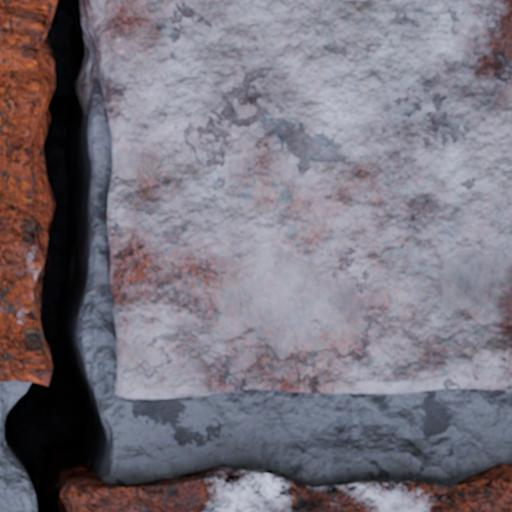brick: (84, 0, 511, 398), (0, 0, 55, 383), (67, 465, 511, 511)
crack: (0, 0, 114, 511)
